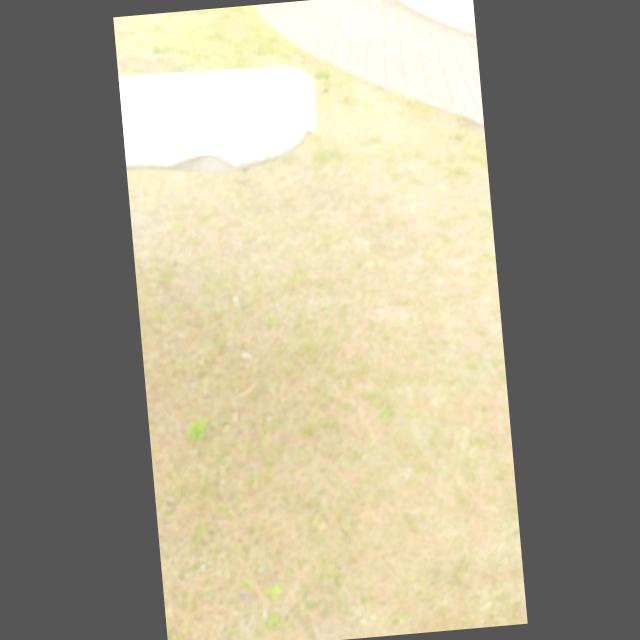dent: (174, 148, 240, 183), (147, 146, 180, 170)
